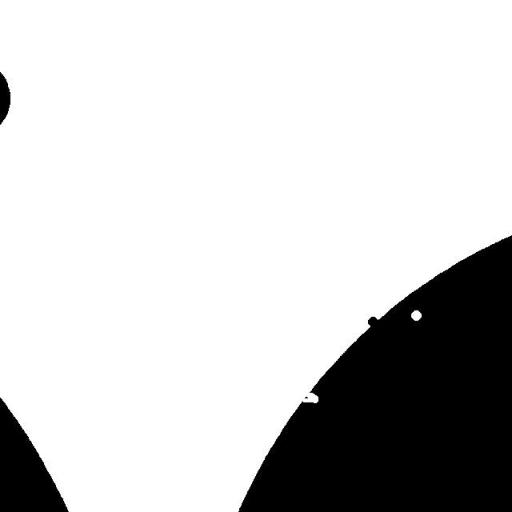mousebite: (294, 384, 326, 410)
pin-hole: (403, 302, 429, 328)
spur: (360, 309, 386, 334)
